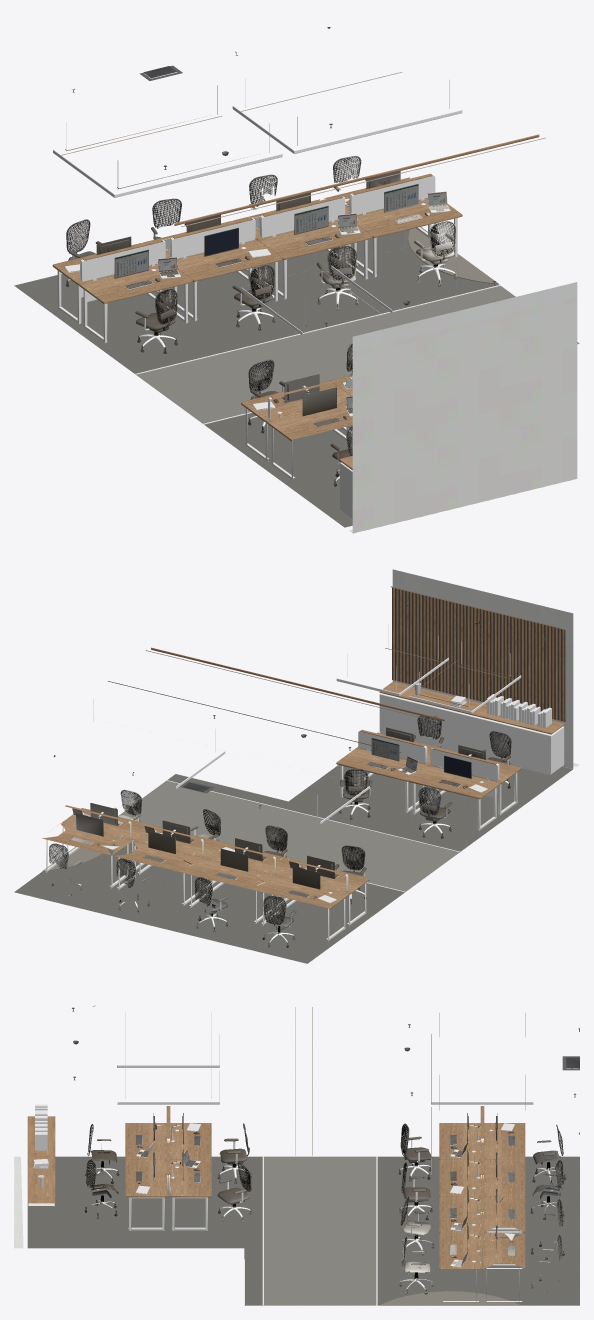
The model's file is z-open_e-lite.full.9b9f7704.glb.
3 renders of one model, top to bottom at view 1: azimuth 30°, elevation 25°; view 2: azimuth 150°, elevation 25°; view 3: azimuth 270°, elevation 25°, orthographic. The views are drawn at different scales.
Parts seen in each view (by area): view 1: open_e_plaster, open_e_carpet, open_e_fx, open_e_oak, open_e_satin, open_e_emit, open_e_metal_lit; view 2: open_e_carpet, open_e_proxy_slat, open_e_satin, open_e_oak, open_e_fx, open_e_plaster, open_e_emit, open_e_metal_lit; view 3: open_e_carpet, open_e_oak, open_e_fx, open_e_satin, open_e_metal_lit, open_e_plaster.
Boxes of the visible parts, x1,y1,x2,y2 form: open_e_plaster: [349, 282, 577, 533]; open_e_carpet: [14, 204, 579, 527]; open_e_fx: [65, 27, 495, 486]; open_e_oak: [52, 134, 539, 469]; open_e_satin: [53, 79, 500, 519]; open_e_emit: [61, 72, 545, 408]; open_e_metal_lit: [64, 191, 579, 480]; open_e_carpet: [14, 765, 572, 963]; open_e_proxy_slat: [392, 587, 565, 721]; open_e_satin: [45, 624, 564, 941]; open_e_oak: [42, 647, 564, 909]; open_e_fx: [49, 603, 545, 947]; open_e_plaster: [392, 569, 579, 768]; open_e_emit: [146, 586, 562, 817]; open_e_metal_lit: [74, 744, 508, 942]; open_e_carpet: [27, 1156, 579, 1305]; open_e_oak: [27, 1007, 525, 1269]; open_e_fx: [72, 1007, 579, 1294]; open_e_satin: [28, 1005, 533, 1305]; open_e_metal_lit: [90, 1123, 560, 1305]; open_e_plaster: [14, 1156, 23, 1248].
Bounding box in the file's own units: 6.5 × 3.35 × 10.45.
Materials: 9 (6 with a texture image).
